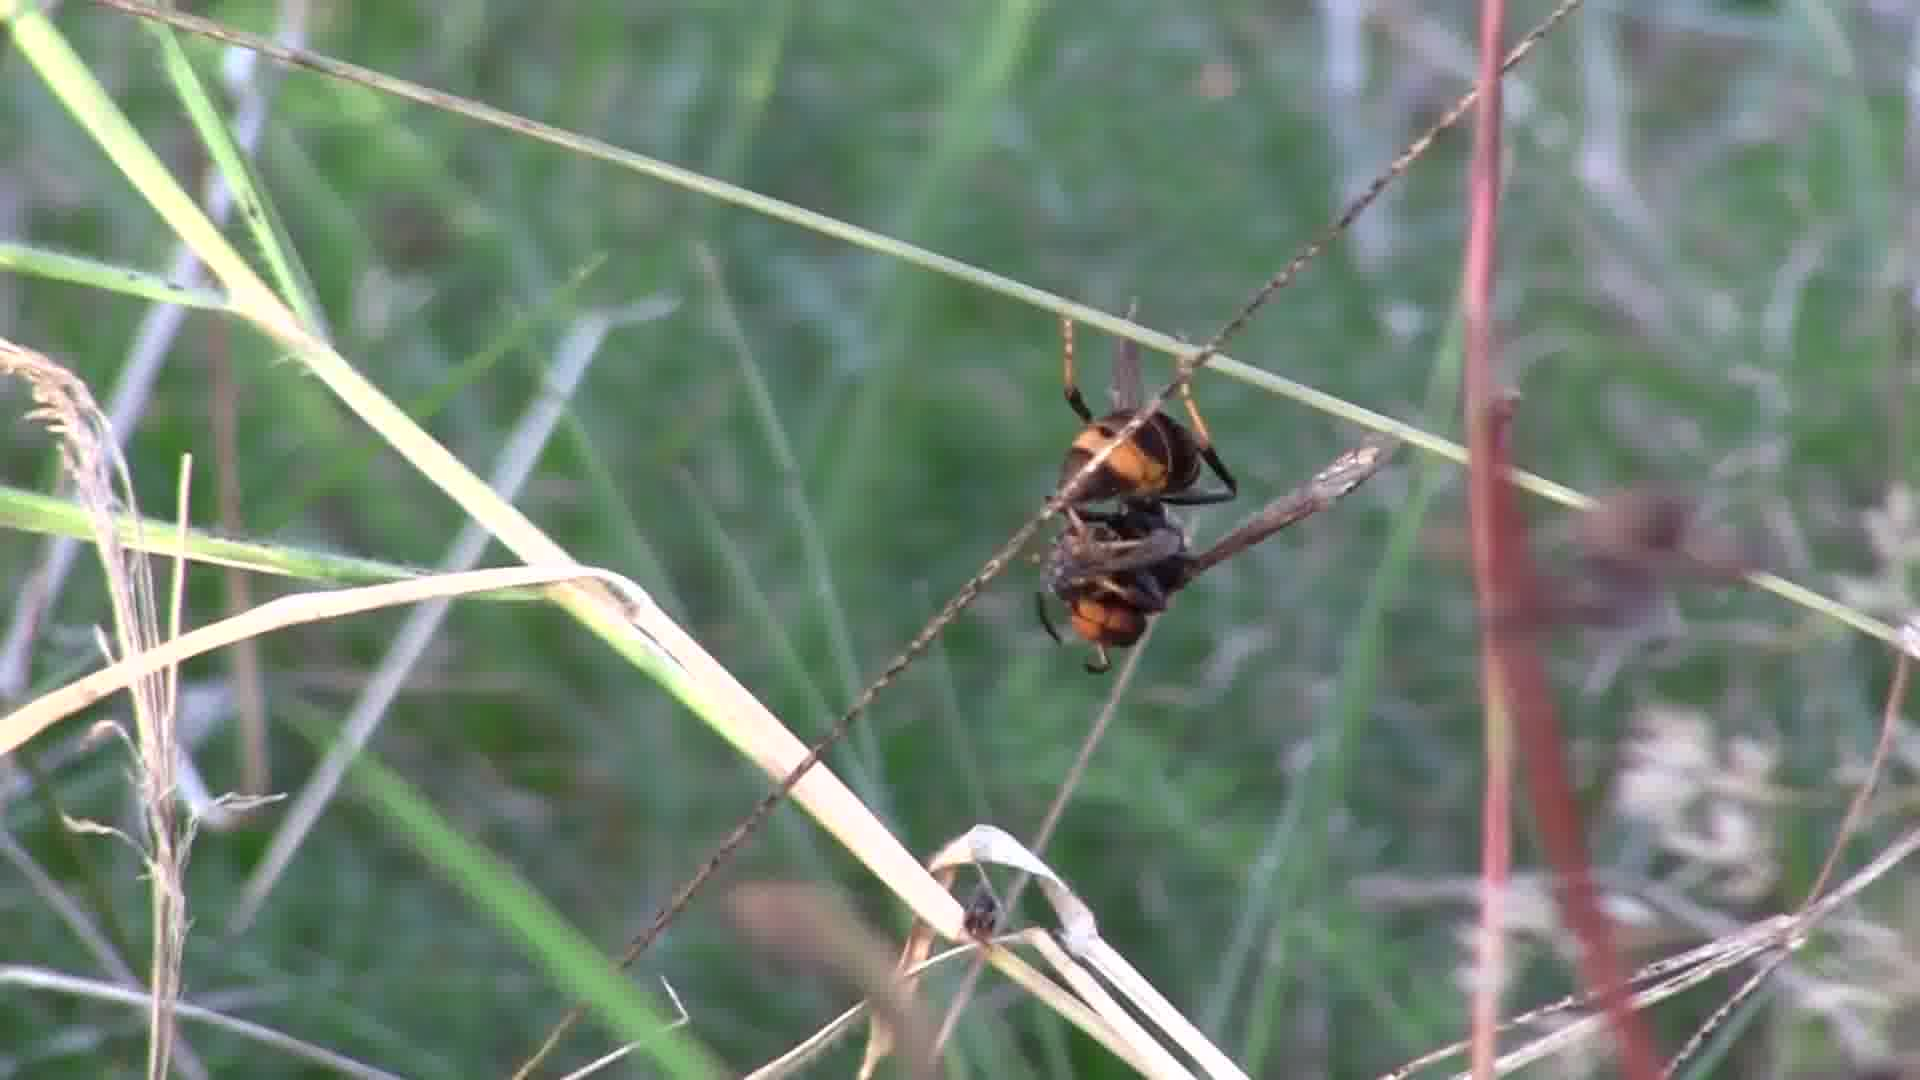hornet: (992, 332, 1265, 665)
